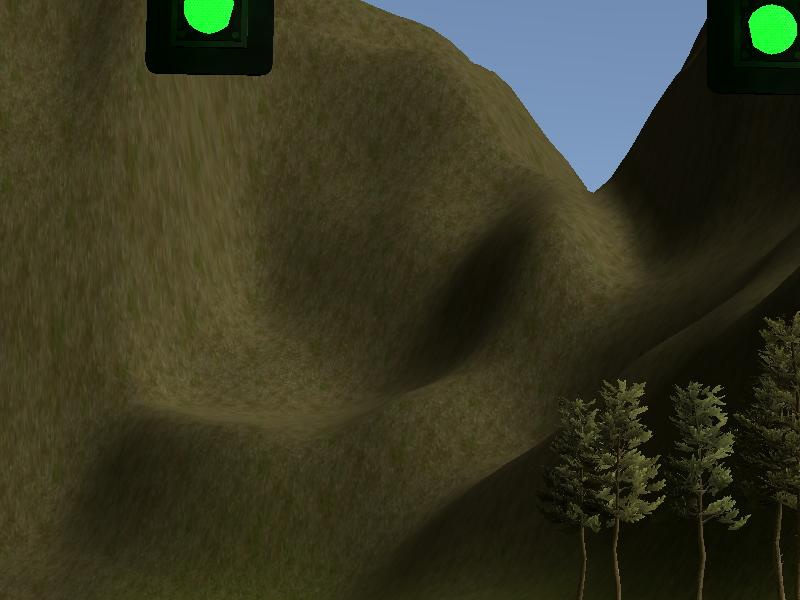Green: (139, 1, 279, 78), (703, 1, 800, 94)
